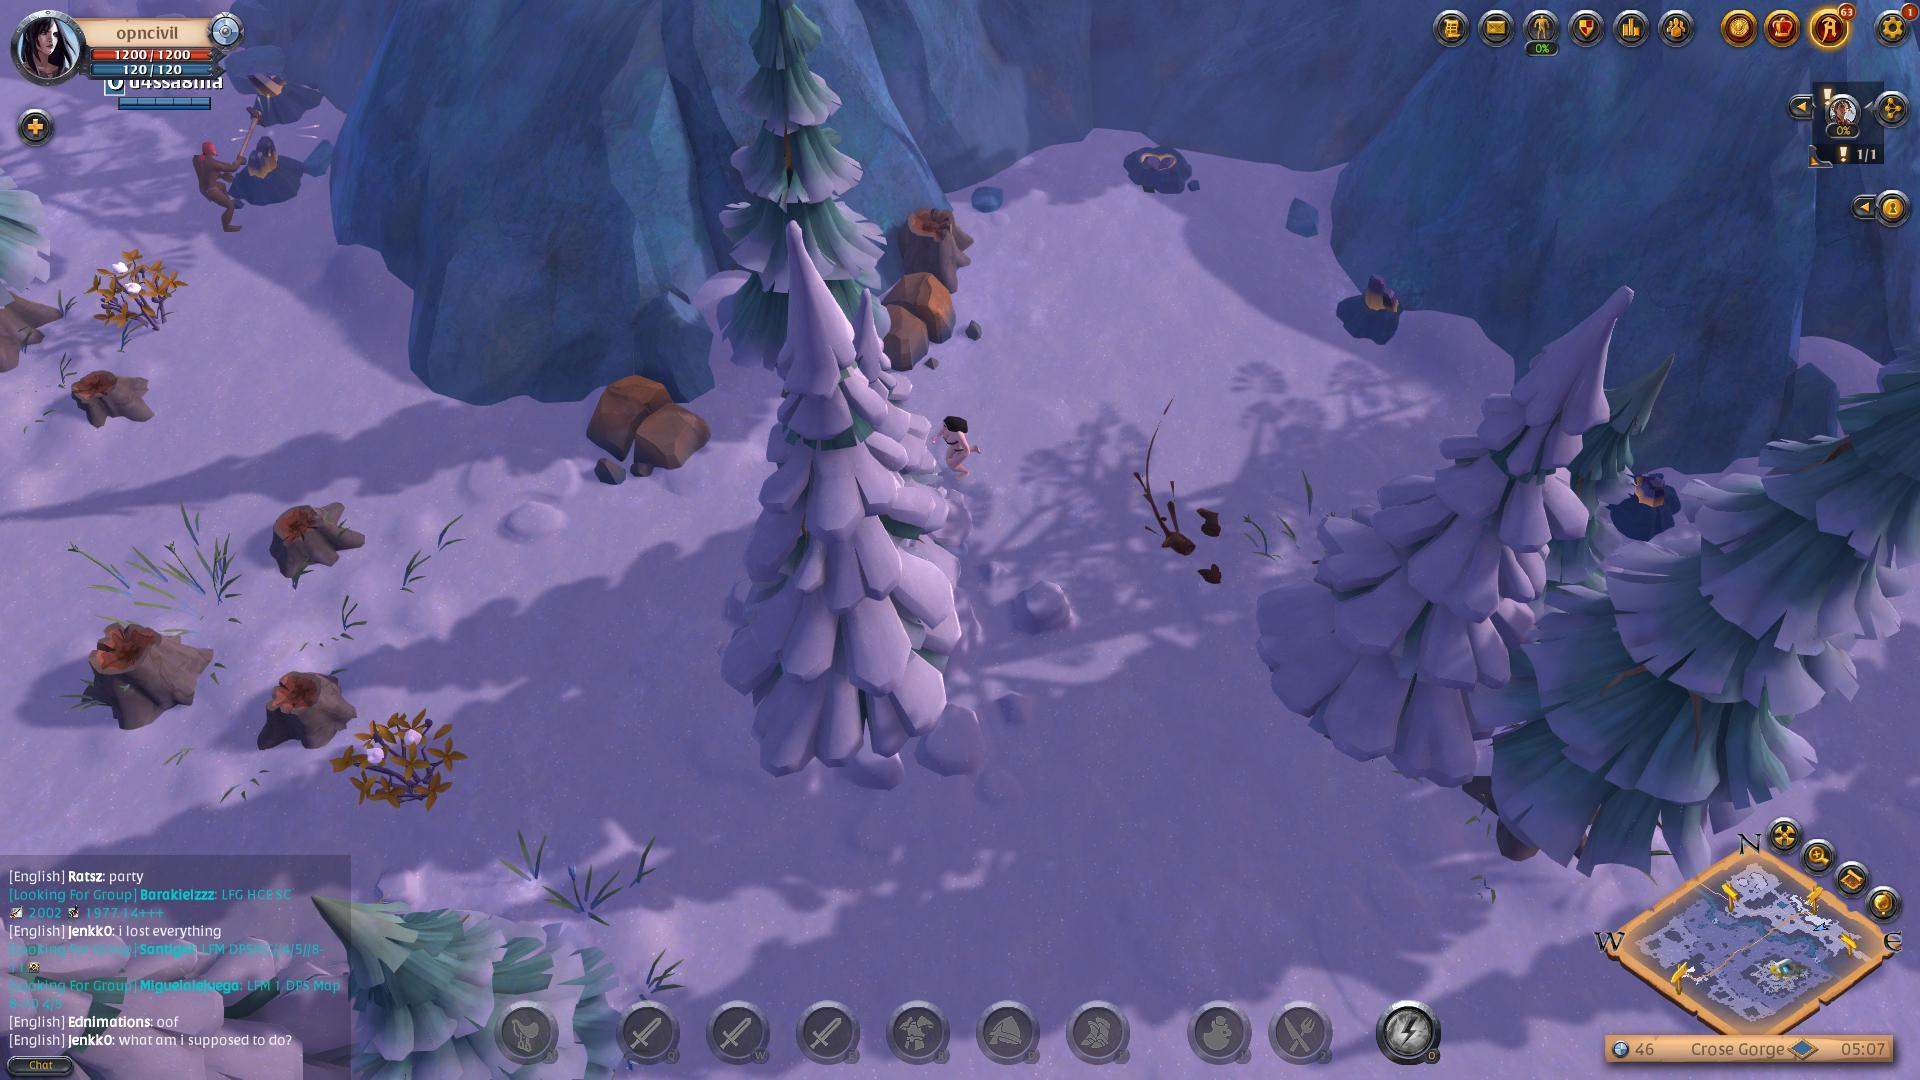copper_ore: (1309, 277, 1437, 352)
cotton: (322, 715, 491, 810), (79, 252, 191, 335)
limestone: (584, 371, 720, 492)
